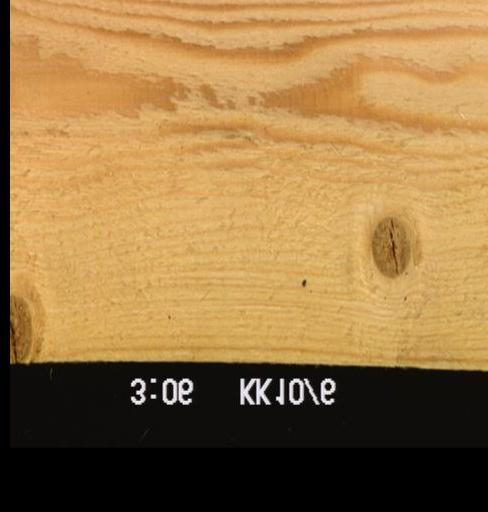edge_knot: (10, 293, 32, 363)
sound_knot: (369, 214, 410, 278)
